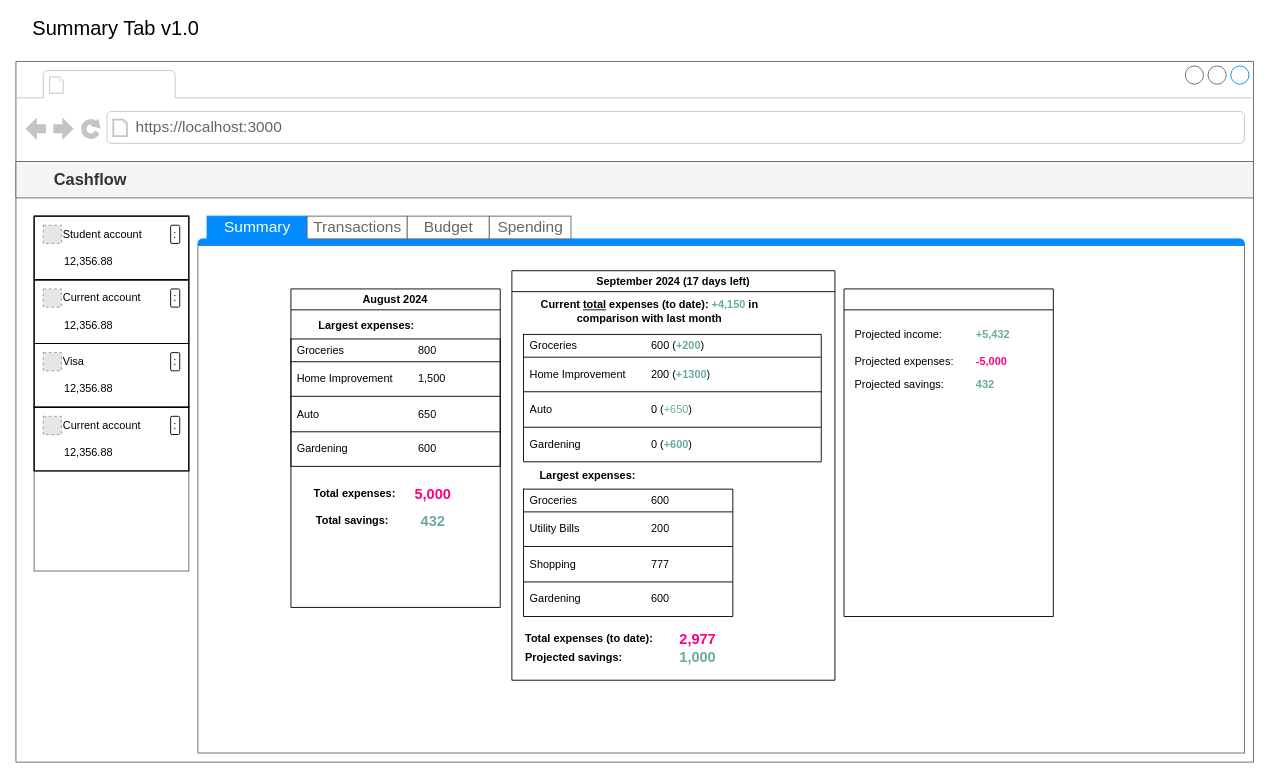
Image size: 1269x778. Some labels were removed from this diagram. Grey dashed boxes stand in for pictures. Each missing label, with the box of its shape:
October 2024: (843, 288, 1053, 617)
Page 1: (70, 71, 171, 96)
